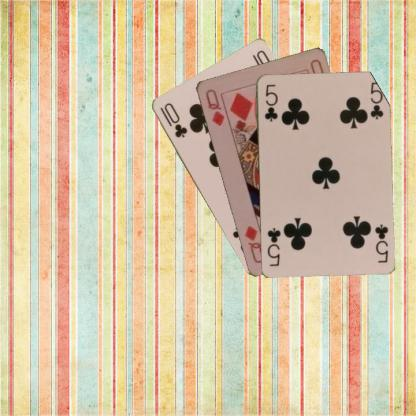10c: (157, 100, 188, 139)
5c: (372, 221, 389, 264), (262, 82, 278, 123)
Qd: (202, 86, 226, 127)
